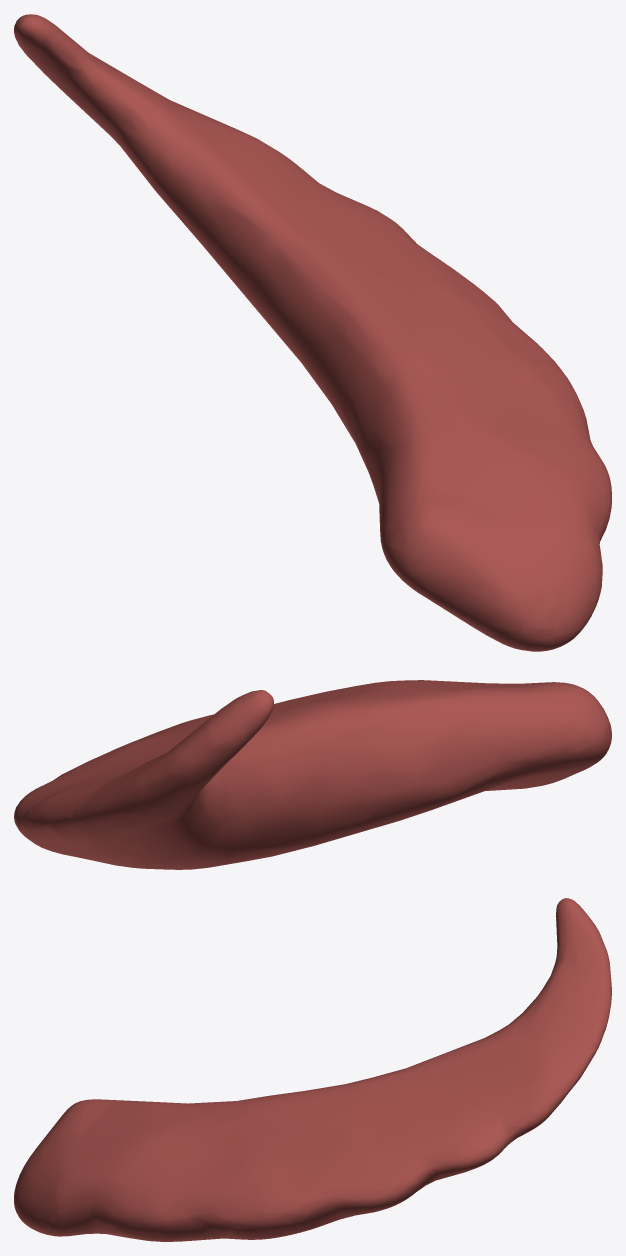
The model's file is FMA72714.glb.
3 renders of one model, top to bottom at view 1: azimuth 30°, elevation 25°; view 2: azimuth 150°, elevation 25°; view 3: azimuth 270°, elevation 25°, orthographic. The views are drawn at different scales.
Visible parts, largest first — view 1: FMA72714; view 2: FMA72714; view 3: FMA72714.
Part boxes in pixels (box(x1,y1,x2,y2)): FMA72714: box(14, 14, 611, 651); FMA72714: box(14, 680, 611, 869); FMA72714: box(14, 898, 611, 1241).
Bounding box in the file's own units: 0.0189 × 0.0208 × 0.0406.
